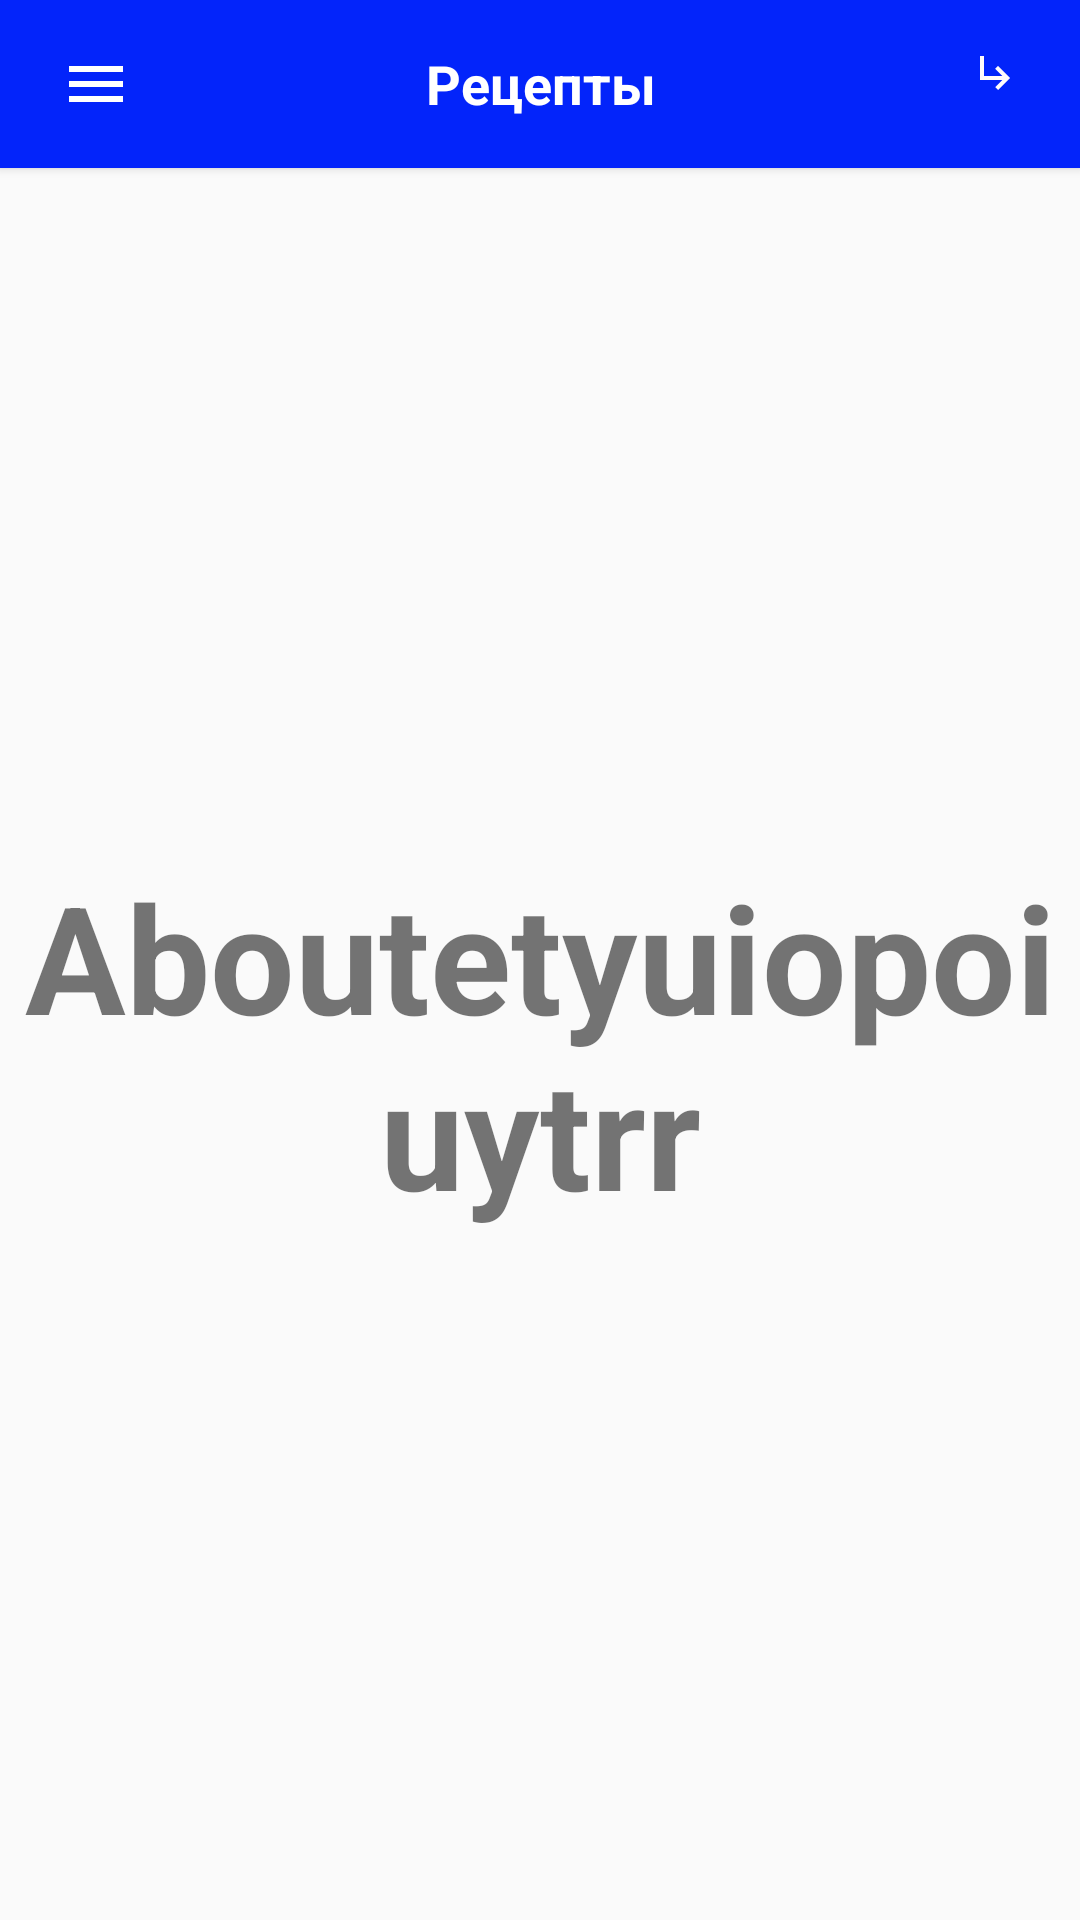

Screen size 1080px x 1920px. Icon name, then its center in pixels as [x,y]:
menu: [96,84]
subdirectory arrow right: [995,73]
